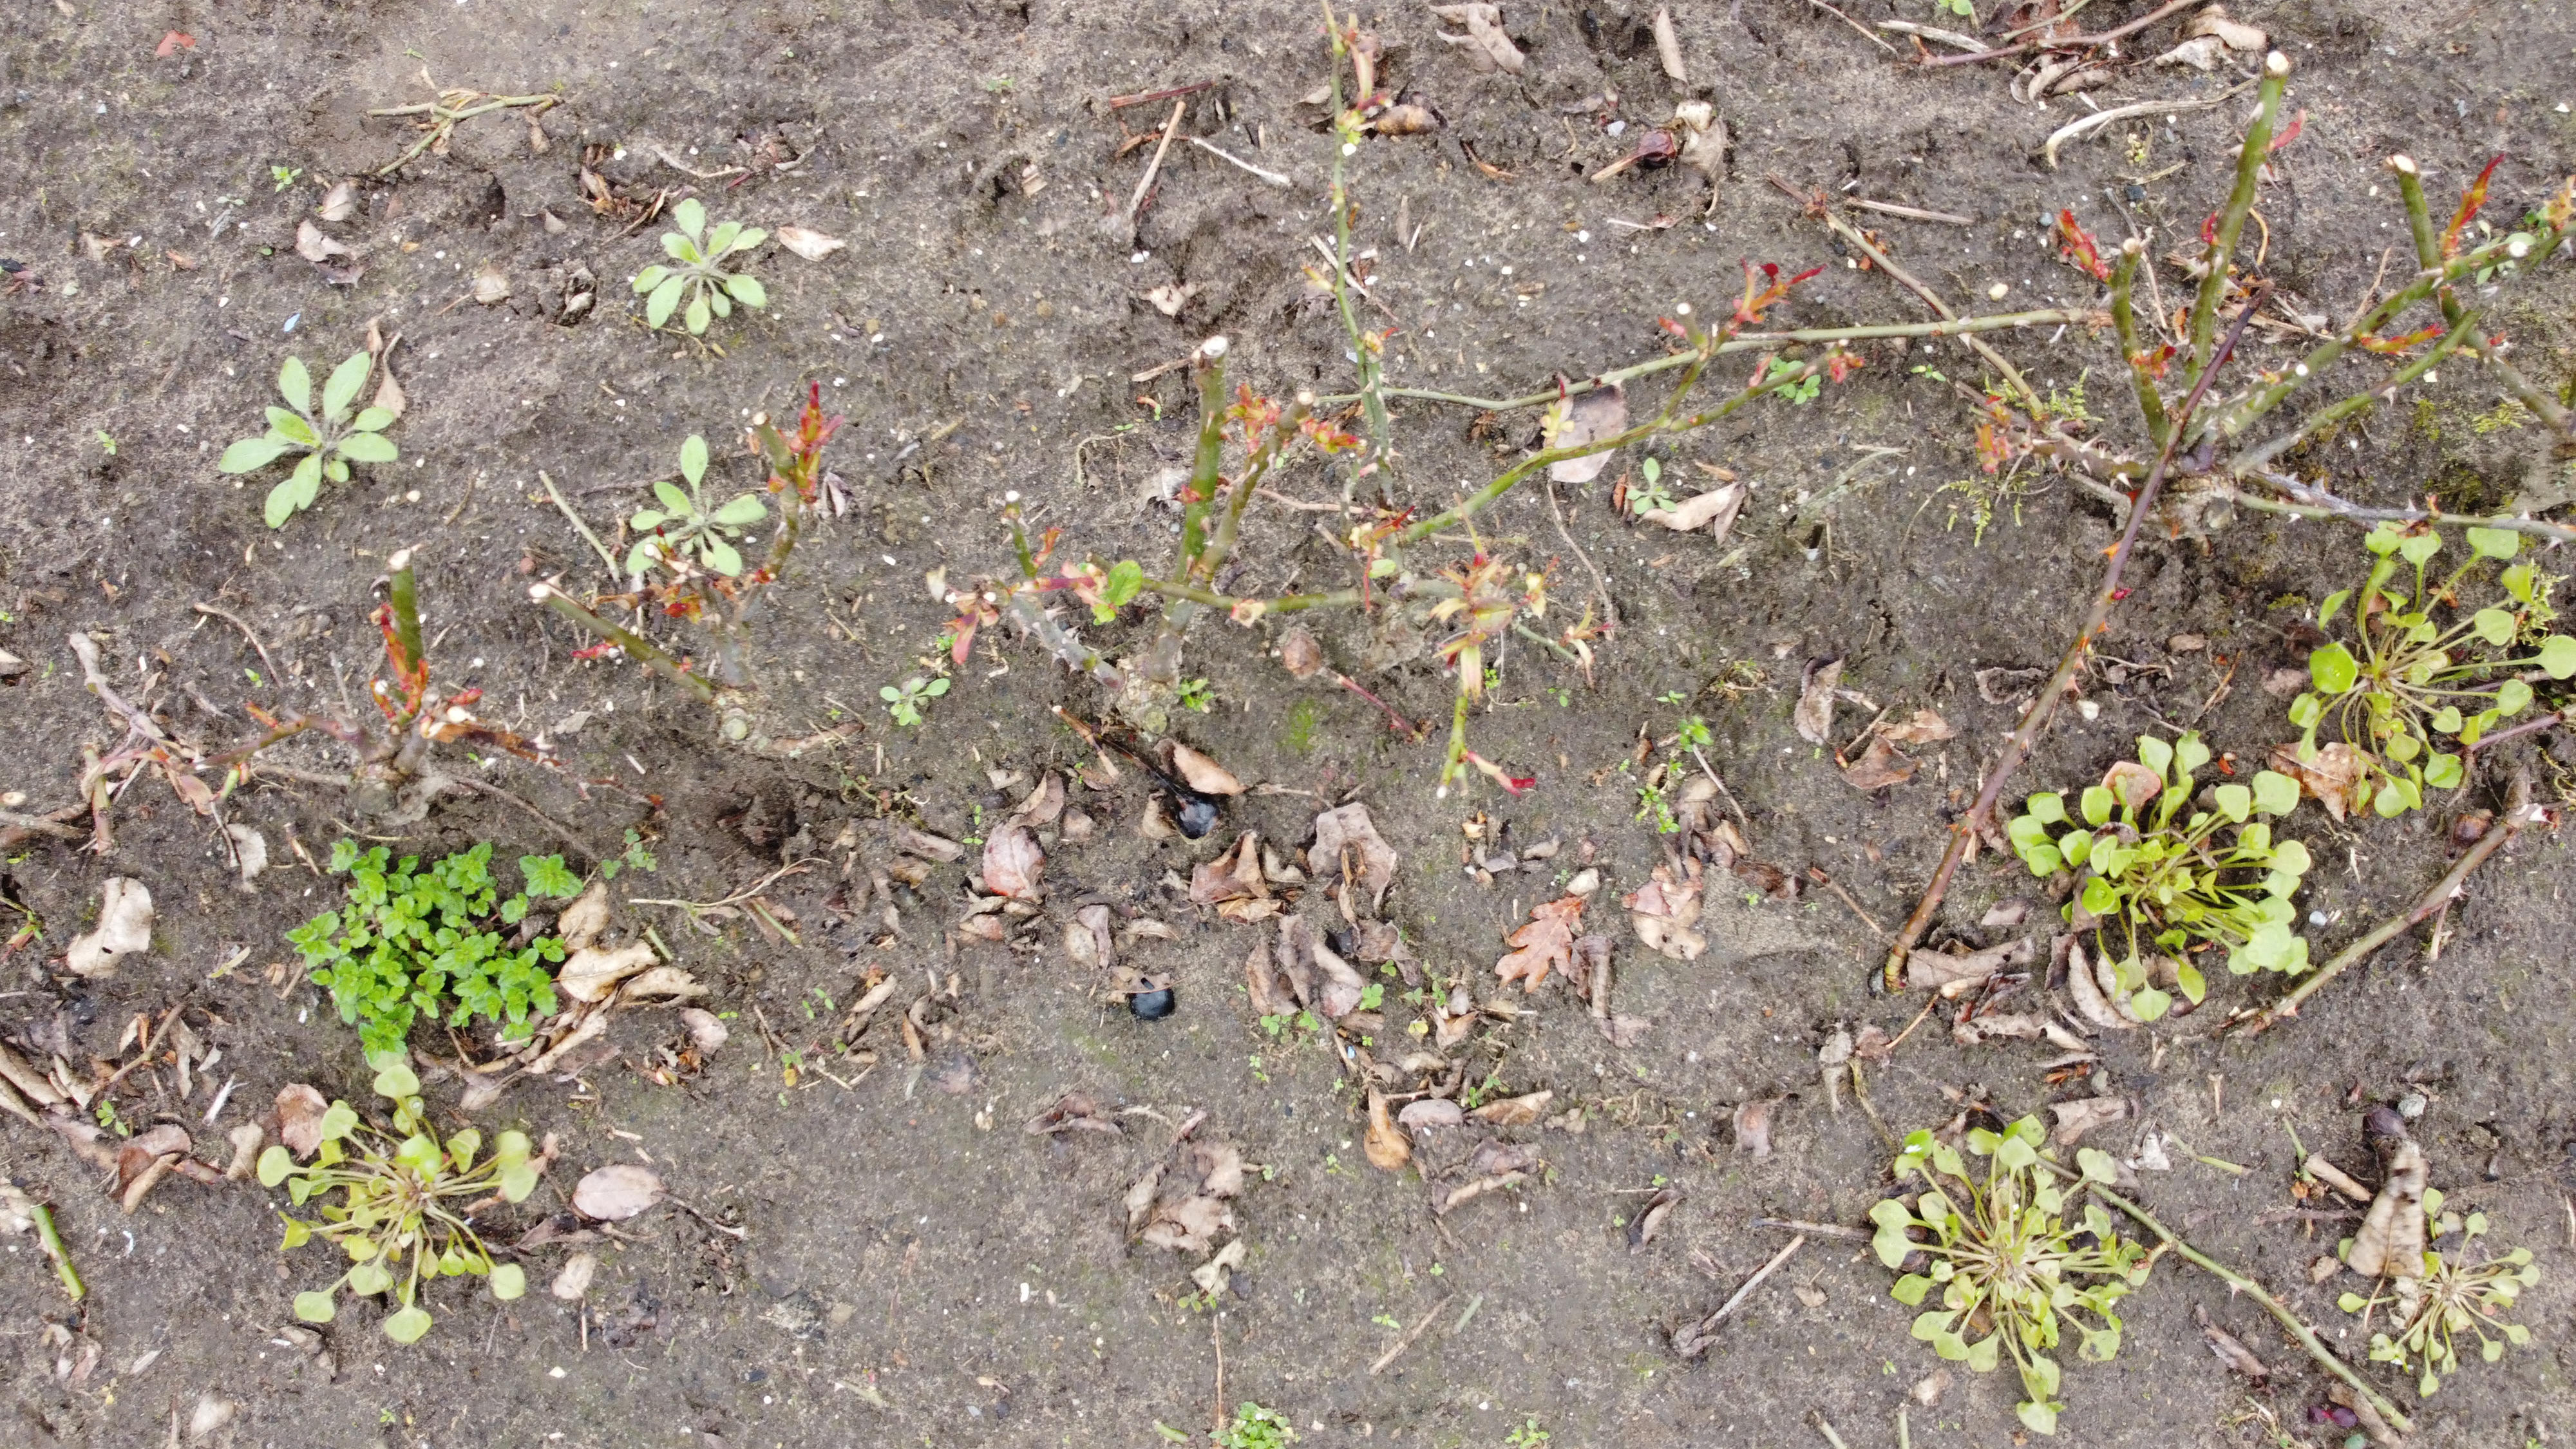Rose: (1898, 184, 2576, 513), (1051, 366, 1316, 759), (326, 571, 433, 824)
Weed: (2296, 488, 2576, 789), (1874, 1102, 2128, 1392), (253, 1102, 561, 1332), (2019, 752, 2309, 993), (276, 835, 570, 1039), (2319, 1215, 2539, 1391), (214, 350, 407, 504), (616, 198, 768, 318), (616, 449, 757, 575), (1249, 1008, 1329, 1074), (1201, 1407, 1299, 1449), (876, 674, 945, 724), (1767, 357, 1822, 403), (1635, 778, 1677, 837), (1631, 462, 1674, 517), (610, 821, 655, 872), (1414, 968, 1445, 1037), (1677, 708, 1711, 759), (1502, 1412, 1546, 1449), (262, 159, 299, 193), (1357, 982, 1378, 1016)
